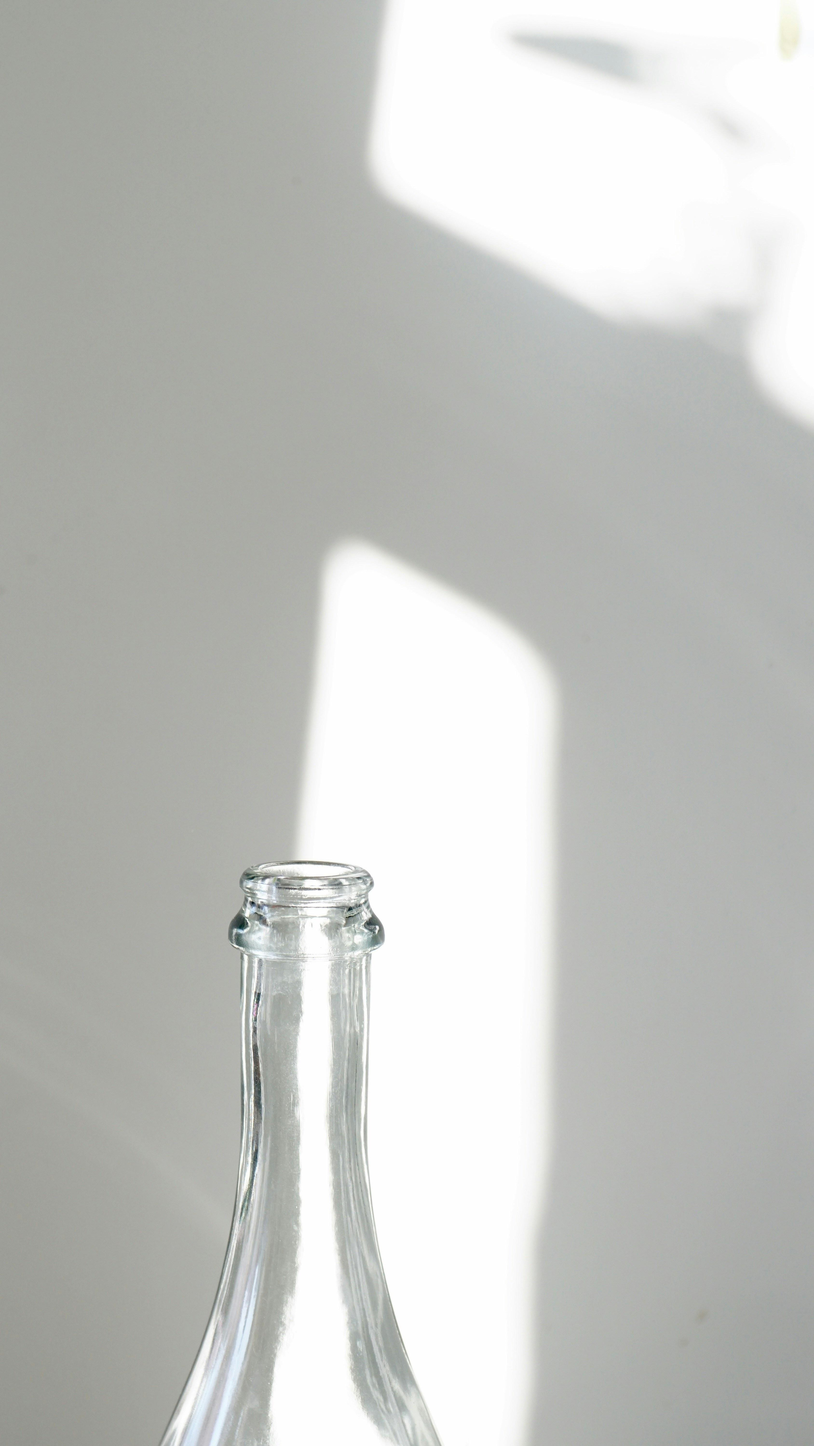Bottle-Detection: (96, 810, 581, 1446)
